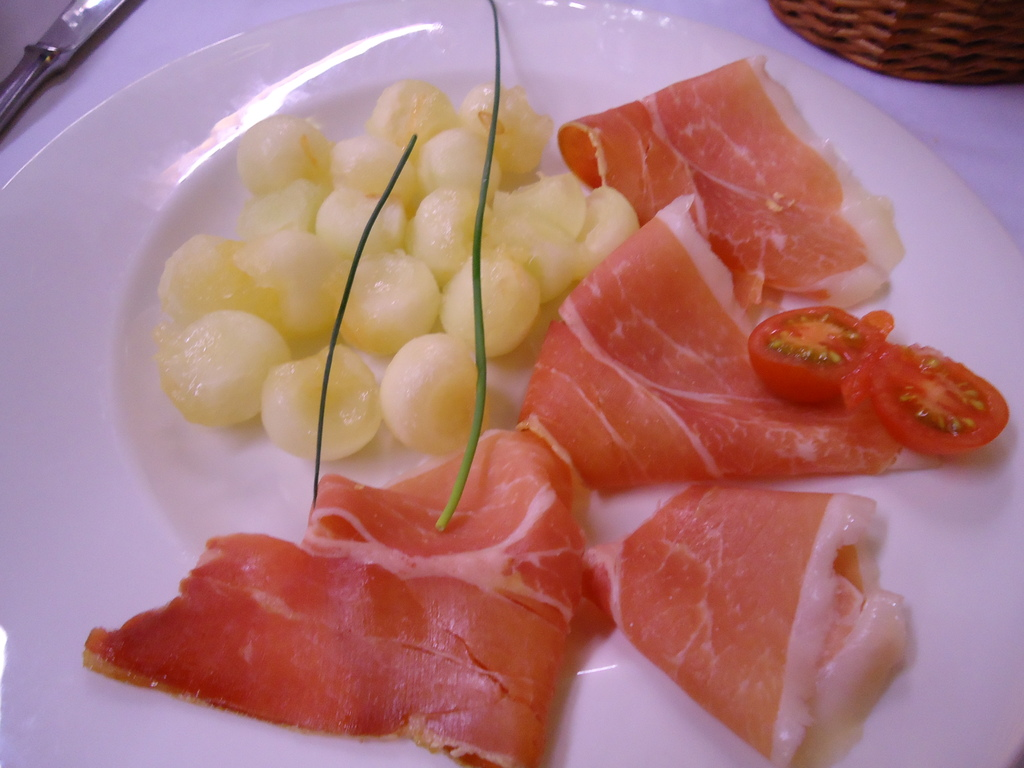Tomato: (746, 304, 1009, 456)
